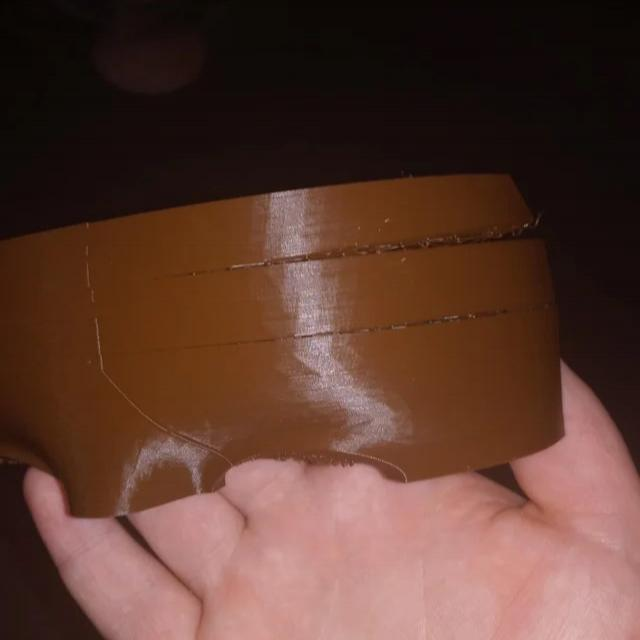cracks: (108, 296, 542, 377), (148, 216, 550, 287)
